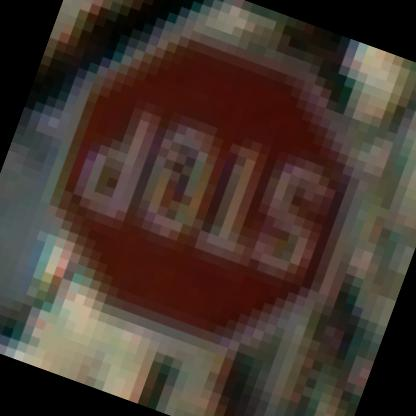stop: (8, 0, 400, 390)
